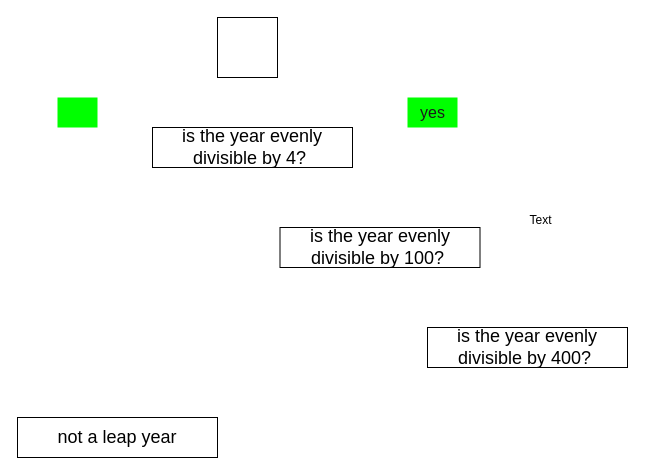
The diagram is 645 pixels wide and 475 high, and some of its shapes have lost their labels. The centre of each missing label's shape, as x and y in pixels:
no: the point at 77,112
start: the point at 247,47
